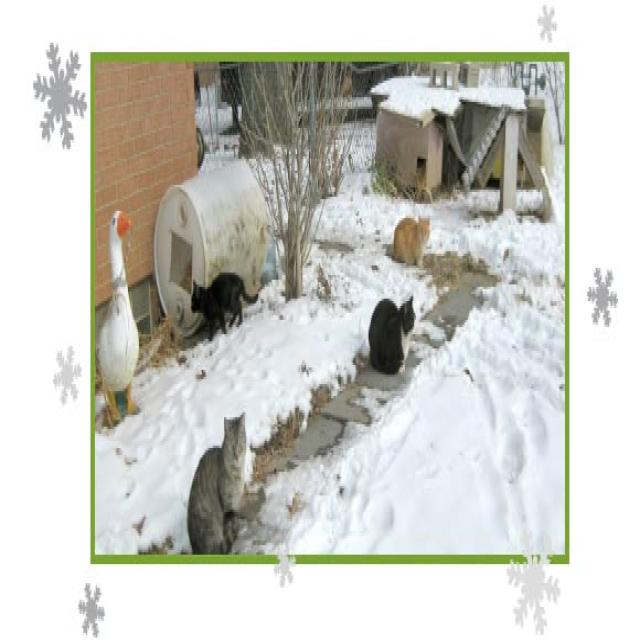cat: (188, 414, 244, 553), (191, 274, 258, 340), (369, 298, 415, 373), (394, 217, 430, 264)
